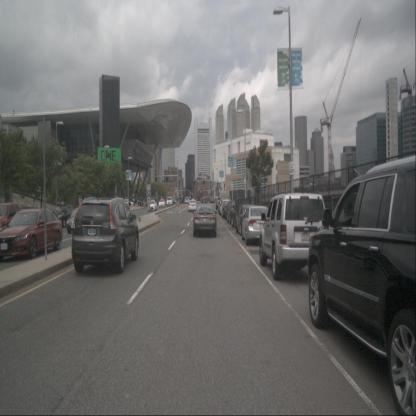vehicle-car: (308, 154, 416, 416), (260, 193, 332, 281), (71, 197, 139, 274), (0, 209, 63, 261), (241, 206, 276, 245), (66, 206, 96, 234), (192, 204, 217, 237), (235, 204, 260, 236), (231, 198, 252, 230), (51, 204, 74, 230), (226, 202, 243, 225), (221, 201, 235, 219), (220, 199, 233, 217), (218, 198, 229, 215), (147, 200, 158, 212), (122, 198, 134, 208), (136, 198, 148, 208), (215, 197, 224, 210), (189, 198, 197, 212), (166, 196, 173, 207), (201, 196, 208, 207), (159, 198, 165, 208), (184, 196, 190, 204), (178, 198, 183, 204)
vehicle-truck: (0, 202, 39, 242)
